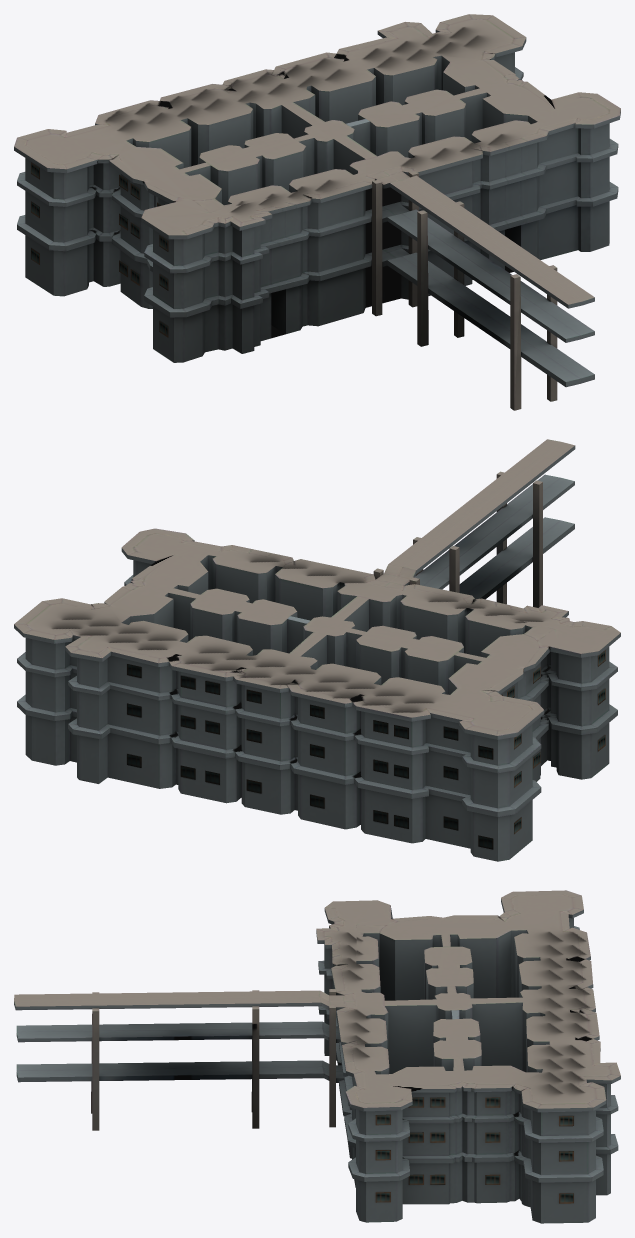
File: vindhya.glb
3 renders of one model, top to bottom at view 1: azimuth 30°, elevation 25°; view 2: azimuth 150°, elevation 25°; view 3: azimuth 270°, elevation 25°, orthographic. The views are drawn at different scales.
Visible parts, largest first — view 1: Plane002; view 2: Plane002; view 3: Plane002.
Part boxes in pixels (<box>): Plane002: <box>14,14,620,410</box>; Plane002: <box>14,439,620,861</box>; Plane002: <box>14,890,620,1223</box>.
Size of the model in its own units: 19.17 by 5.07 by 22.52.
1 material, 1 textured.
